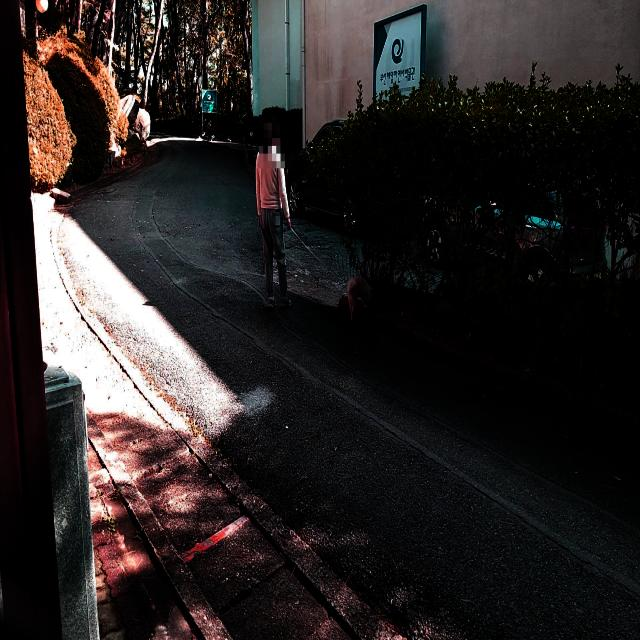Leashed_Dog: (267, 217, 374, 322)
